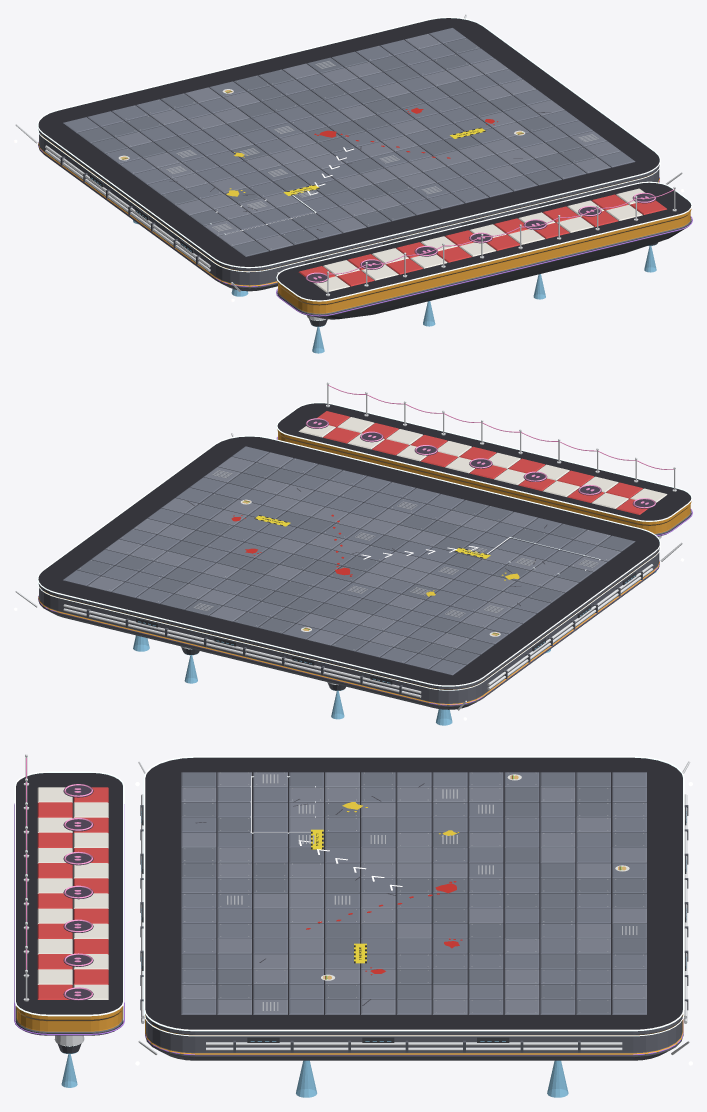
Rendered from Level_Main.fbx.
3 renders of one model, top to bottom at view 1: azimuth 30°, elevation 25°; view 2: azimuth 150°, elevation 25°; view 3: azimuth 270°, elevation 25°, orthographic. The views are drawn at different scales.
Parts seen in each view (by area): view 1: Platform_Tiles, Platform_Slab, Customers_Main_Slab, Customers_Main_CheckerFloor, Platform_NeonRim_Top, Platform_HullDetails, Customers_Main_QueueSpotsPosts, Customers_Main_NeonRim, Customers_Main_Engines, Platform_NeonRim_Mid, Customers_Main_NeonRimLow, Decal_SpillsFootprintsStickers (+1 smaller); view 2: Platform_Tiles, Platform_Slab, Customers_Main_Slab, Customers_Main_CheckerFloor, Platform_HullDetails, Platform_NeonRim_Top, Customers_Main_QueueSpotsPosts, Customers_Main_NeonRim, Platform_Engines, Platform_NeonRim_Mid, Decal_SpillsFootprintsStickers, Platform_NeonRim_Bottom; view 3: Platform_Tiles, Platform_Slab, Customers_Main_CheckerFloor, Customers_Main_Slab, Platform_HullDetails, Platform_NeonRim_Top, Customers_Main_QueueSpotsPosts, Customers_Main_NeonRim, Platform_Engines, Platform_NeonRim_Mid, Decal_SpillsFootprintsStickers, Customers_Main_Engines (+2 smaller).
Part boxes in pixels (box(x1,y1,x2,y2)): Platform_Tiles: box(63, 28, 635, 256); Platform_Slab: box(38, 18, 659, 291); Customers_Main_Slab: box(277, 182, 691, 319); Customers_Main_CheckerFloor: box(298, 188, 666, 292); Platform_NeonRim_Top: box(37, 17, 660, 268); Platform_HullDetails: box(14, 14, 684, 301); Customers_Main_QueueSpotsPosts: box(305, 186, 676, 296); Customers_Main_NeonRim: box(276, 181, 692, 301); Customers_Main_Engines: box(307, 242, 657, 353); Platform_NeonRim_Mid: box(37, 128, 660, 272); Customers_Main_NeonRimLow: box(276, 216, 692, 316); Decal_SpillsFootprintsStickers: box(118, 89, 551, 231); Platform_Tiles: box(62, 446, 635, 675); Platform_Slab: box(38, 436, 659, 709); Customers_Main_Slab: box(277, 403, 691, 536); Customers_Main_CheckerFloor: box(298, 411, 667, 514); Platform_HullDetails: box(14, 433, 684, 720); Platform_NeonRim_Top: box(37, 435, 660, 686); Customers_Main_QueueSpotsPosts: box(305, 382, 676, 508); Customers_Main_NeonRim: box(276, 402, 692, 521); Platform_Engines: box(133, 635, 550, 725); Platform_NeonRim_Mid: box(37, 546, 660, 690); Decal_SpillsFootprintsStickers: box(187, 488, 547, 636); Platform_NeonRim_Bottom: box(38, 560, 659, 705); Platform_Tiles: box(181, 772, 646, 1014); Platform_Slab: box(145, 757, 683, 1060); Customers_Main_CheckerFloor: box(37, 787, 108, 999); Customers_Main_Slab: box(15, 773, 123, 1035); Platform_HullDetails: box(135, 761, 692, 1065); Platform_NeonRim_Top: box(143, 756, 684, 1031); Customers_Main_QueueSpotsPosts: box(23, 754, 93, 1001); Customers_Main_NeonRim: box(14, 771, 124, 1016); Platform_Engines: box(296, 1060, 568, 1097); Platform_NeonRim_Mid: box(144, 1011, 684, 1036); Decal_SpillsFootprintsStickers: box(195, 774, 629, 1005); Customers_Main_Engines: box(54, 1035, 84, 1087).
Size of the model in its own units: 18.54 by 5.32 by 18.91.
